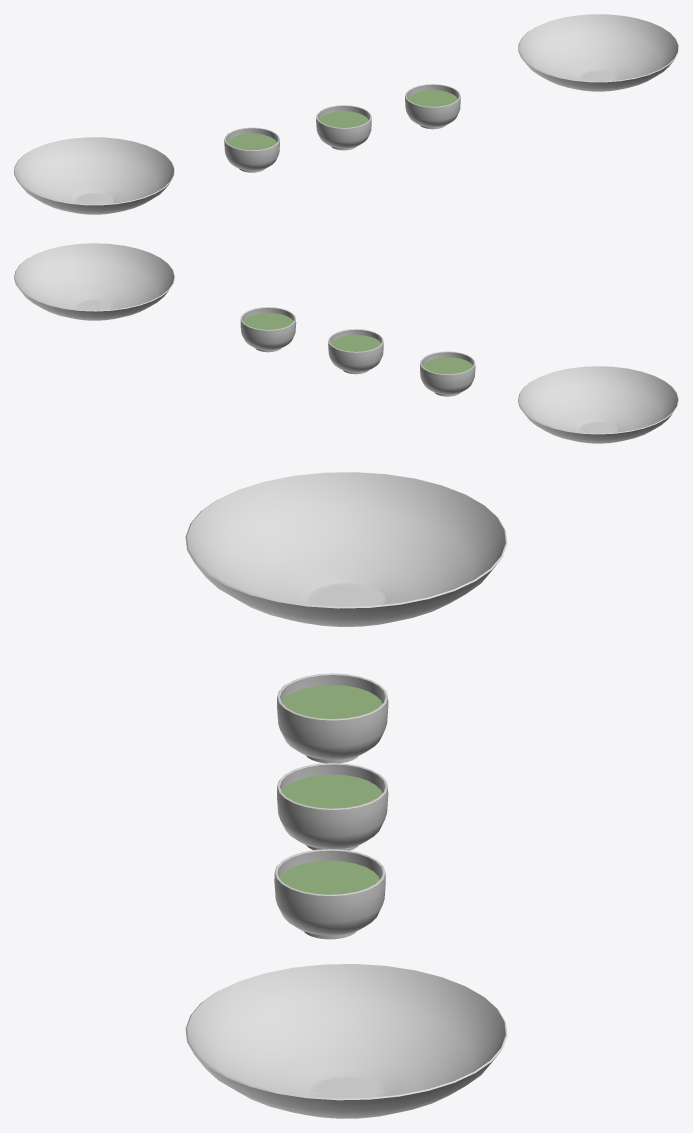
Rendered from MD-明神龛瓷器.fbx.
The picture shows the model from 3 angles, top to bottom: view 1: azimuth 30°, elevation 25°; view 2: azimuth 150°, elevation 25°; view 3: azimuth 270°, elevation 25°; orthographic projection. The views are drawn at different scales.
Parts seen in each view (by area): view 1: MD-明神龛瓷器; view 2: MD-明神龛瓷器; view 3: MD-明神龛瓷器.
Boxes of the visible parts, x1,y1,x2,y2 form: MD-明神龛瓷器: (14, 14, 678, 214); MD-明神龛瓷器: (14, 243, 678, 443); MD-明神龛瓷器: (185, 472, 507, 1118).
Size of the model in its own units: 0.6527 by 0.1415 by 0.03.
